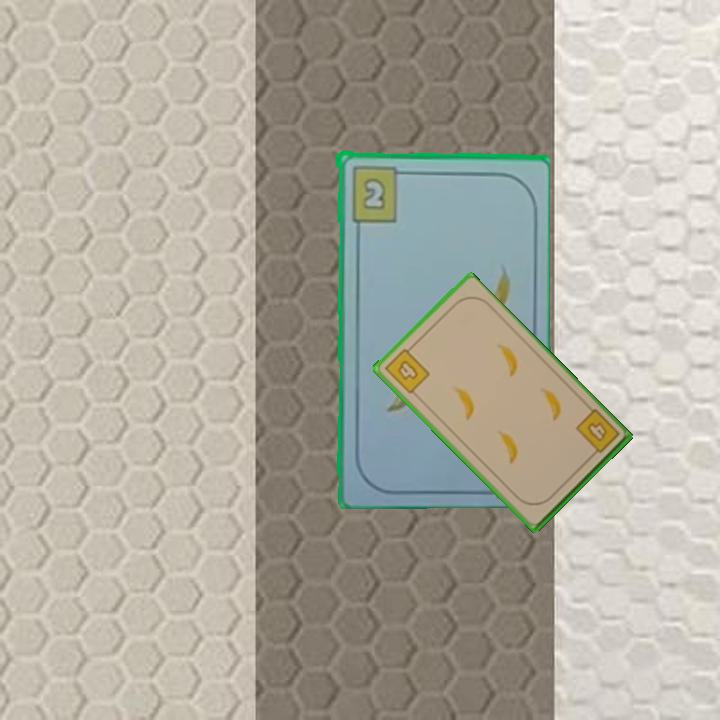2b: (347, 162, 409, 223)
4b: (381, 342, 433, 397), (572, 406, 622, 461)
